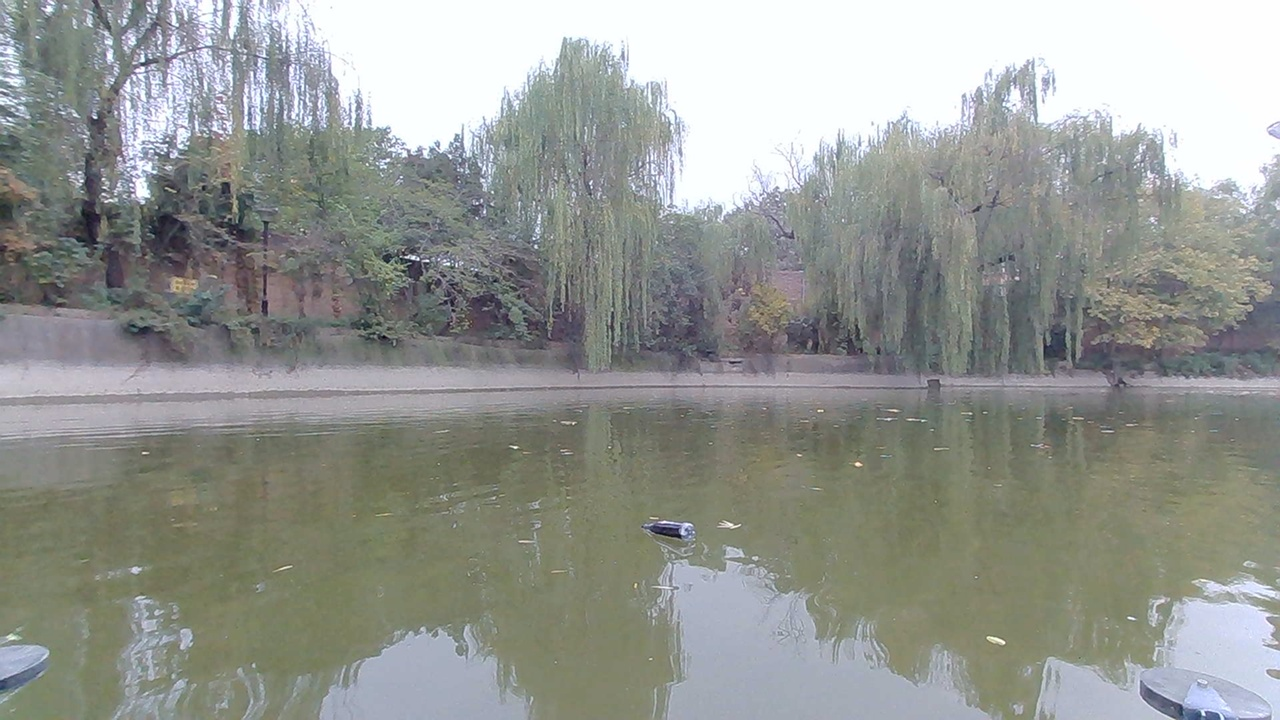bottle: (647, 516, 701, 550)
